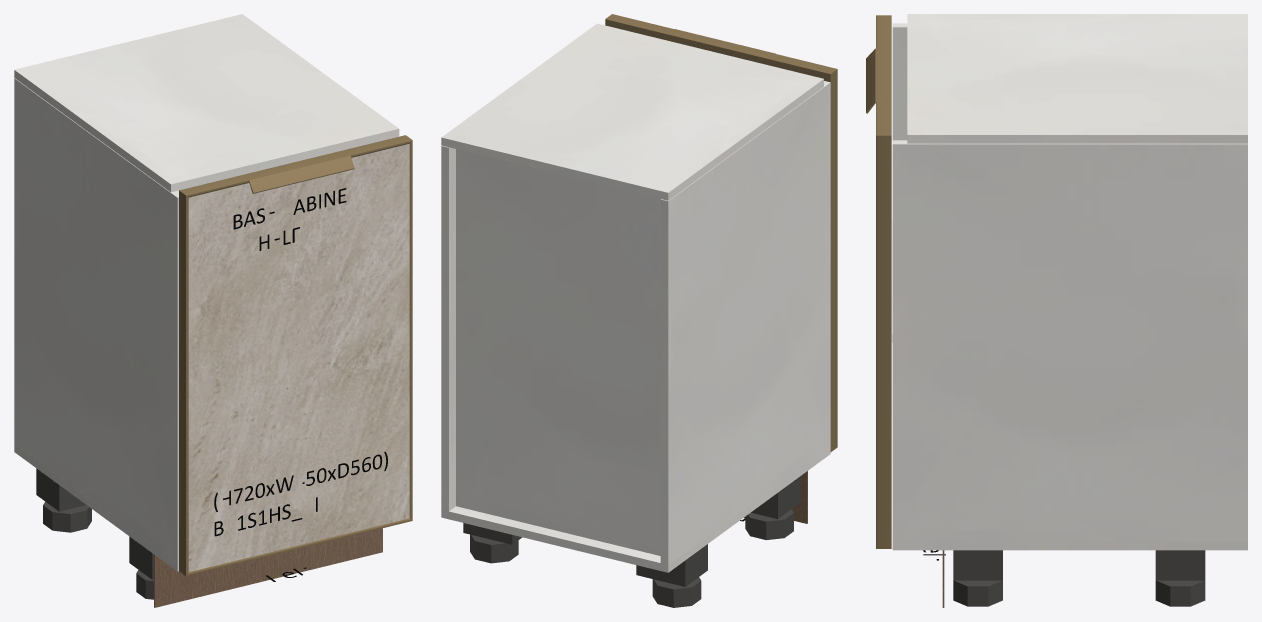
File: BC-SH-TTS-ST-1SX-RHS-XXX-450-720-560-15.glb
The picture shows the model from 3 angles, left to right: view 1: azimuth 30°, elevation 25°; view 2: azimuth 150°, elevation 25°; view 3: azimuth 270°, elevation 25°; orthographic projection. The views are drawn at different scales.
Parts seen in each view (by area): view 1: Object_node_12, TP_node, TP_node_1, Object_node_14, Extrusion_node_4, ExtrSplGeo, 2D text_node, Extrusion_node_2, TP, Extrusion_node, Foot, Plate (+3 smaller); view 2: TP_node_3, TP_node, TP_node_1, TP_node_0, TP, Extrusion_node_4, Extrusion_node, ExtrSplGeo, Plate, Foot, Foot_node_0, Foot_node (+2 smaller); view 3: TP_node_0, TP_node_1, Extrusion_node_2, TP, TP_node, Plate_node, Plate_node_1, ExtrSplGeo, Foot_node, Foot_node_1, Extrusion_node.
Part boxes in pixels (x1,y1,x2,y2): Object_node_12: (188,143,409,571); TP_node: (14,78,178,563); TP_node_1: (14,14,399,192); Object_node_14: (154,528,382,607); Extrusion_node_4: (179,190,188,575); ExtrSplGeo: (242,150,354,193); 2D text_node: (214,451,387,536); Extrusion_node_2: (409,141,412,520); TP: (14,444,178,571); Extrusion_node: (179,135,412,197); Foot: (43,501,91,532); Plate: (36,468,85,511); TP_node_3: (456,149,660,555); TP_node: (660,81,830,564); TP_node_1: (441,23,823,200); TP_node_0: (441,145,455,511); TP: (441,446,830,572); Extrusion_node_4: (824,69,837,451); Extrusion_node: (605,14,836,78); ExtrSplGeo: (667,29,775,64); Plate: (636,544,707,586); Foot: (652,577,701,607); Foot_node_0: (745,509,793,540); Foot_node: (470,534,518,563); TP_node_0: (892,140,1247,541); TP_node_1: (907,14,1247,143); Extrusion_node_2: (876,135,891,548); TP: (892,541,1247,550); TP_node: (892,23,907,140); Plate_node: (1155,550,1205,580); Plate_node_1: (953,550,1002,580); ExtrSplGeo: (866,48,891,113); Foot_node: (1155,580,1205,606); Foot_node_1: (953,580,1002,606); Extrusion_node: (876,15,891,135).
Size of what is drawn, in the model's own units: 0.45 by 0.82 by 0.6.
Materials: 6 (3 with a texture image).
